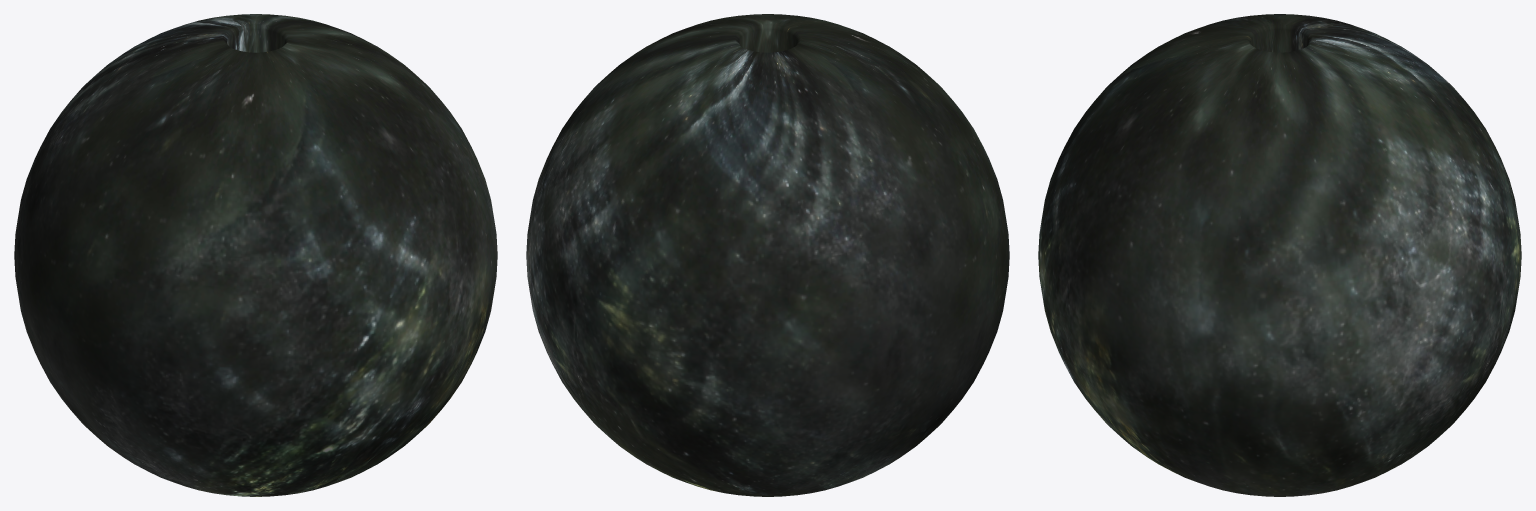
3 renders of one model, left to right at view 1: azimuth 30°, elevation 25°; view 2: azimuth 150°, elevation 25°; view 3: azimuth 270°, elevation 25°, orthographic.
Parts seen in each view (by area): view 1: Sphere.001; view 2: Sphere.001; view 3: Sphere.001.
Part boxes in pixels (bbox=[...]): Sphere.001: bbox=[14, 14, 497, 496]; Sphere.001: bbox=[526, 14, 1009, 496]; Sphere.001: bbox=[1038, 14, 1521, 496].
Bounding box in the file's own units: 1 × 0.9894 × 1.
Materials: 1 (1 with a texture image).
